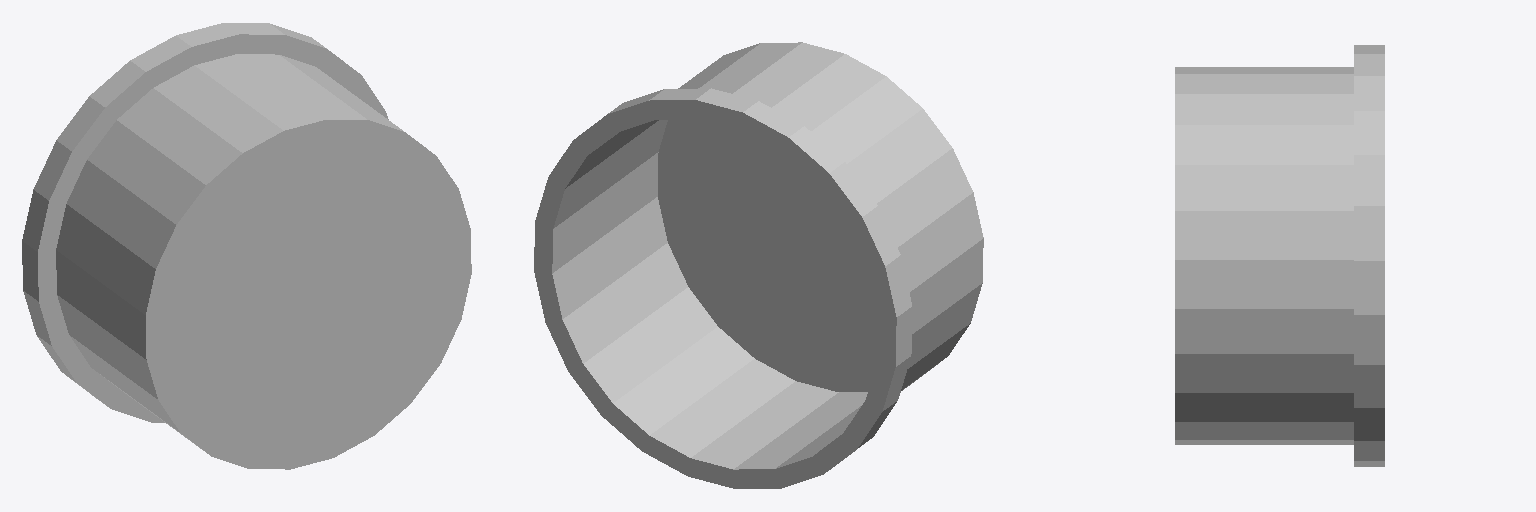
File: original-8.obj
The picture shows the model from 3 angles: view 1: azimuth 30°, elevation 25°; view 2: azimuth 150°, elevation 25°; view 3: azimuth 270°, elevation 25°; orthographic projection.
Visible parts, largest first — view 1: knapp4/knapp/mesh9/mesh9-geometry#mesh9-geometry; view 2: knapp4/knapp/mesh9/mesh9-geometry#mesh9-geometry; view 3: knapp4/knapp/mesh9/mesh9-geometry#mesh9-geometry.
Part boxes in pixels (bbox=[...]): knapp4/knapp/mesh9/mesh9-geometry#mesh9-geometry: bbox=[22, 23, 471, 469]; knapp4/knapp/mesh9/mesh9-geometry#mesh9-geometry: bbox=[534, 42, 983, 488]; knapp4/knapp/mesh9/mesh9-geometry#mesh9-geometry: bbox=[1175, 45, 1384, 466].
Bounding box in the file's own units: 0.0622 × 0.0622 × 0.0313.